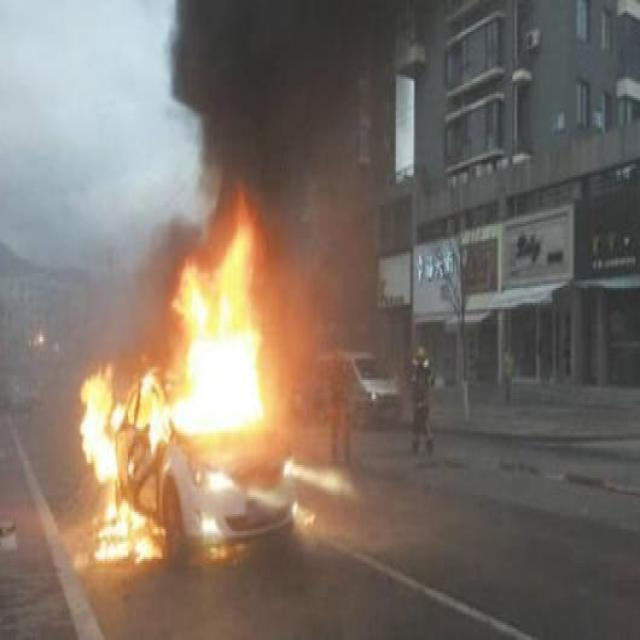Fire: (74, 202, 340, 566)
Smoke: (172, 6, 390, 177)
